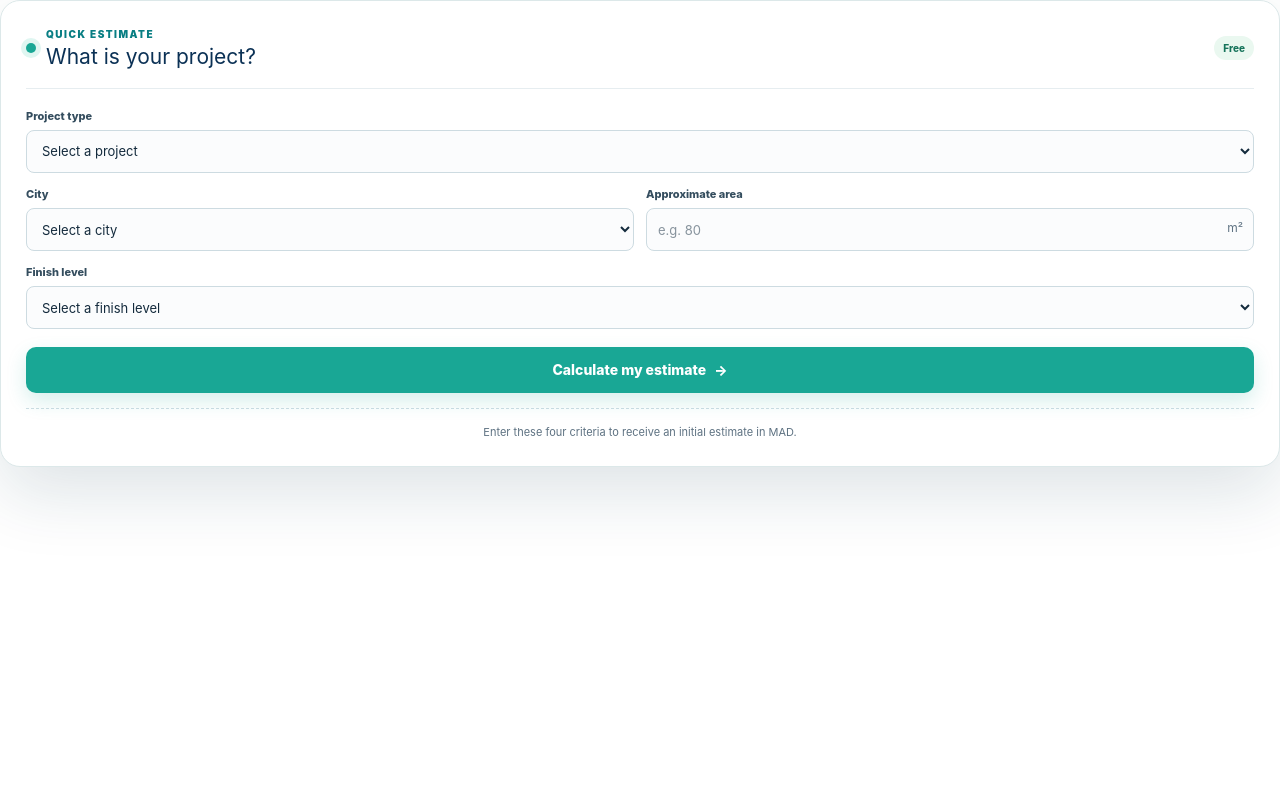
it: QuickEstimateForm › shows translated validation messages when the form is incomplete
Click the button "Calculate my estimate →" at point(640, 370), box left=26, top=347, right=1254, bottom=393
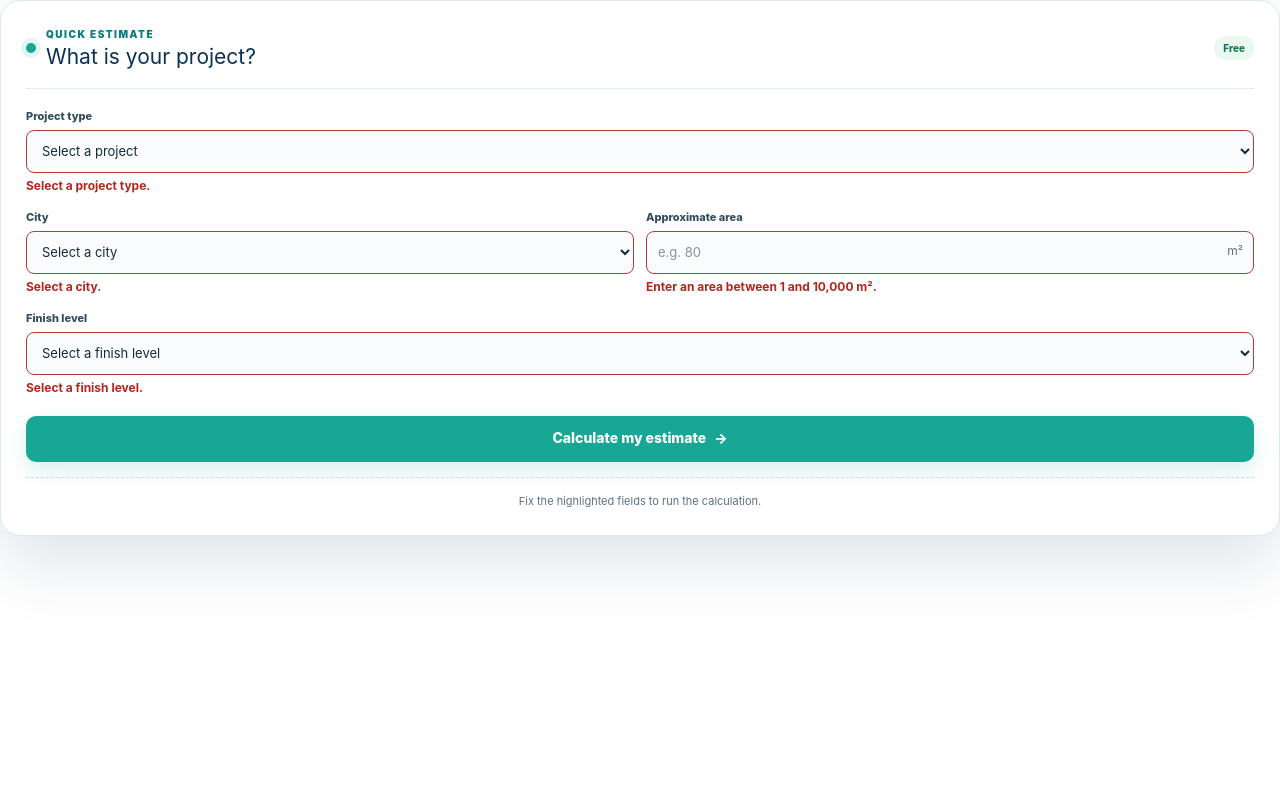
Expected: the text "Select a project type." is shown, left=26, top=178, right=150, bottom=193
Expected: the text "Select a city." is shown, left=26, top=279, right=101, bottom=294
Expected: the text "Enter an area between 1 and 10,000 m²." is shown, left=646, top=279, right=877, bottom=294
